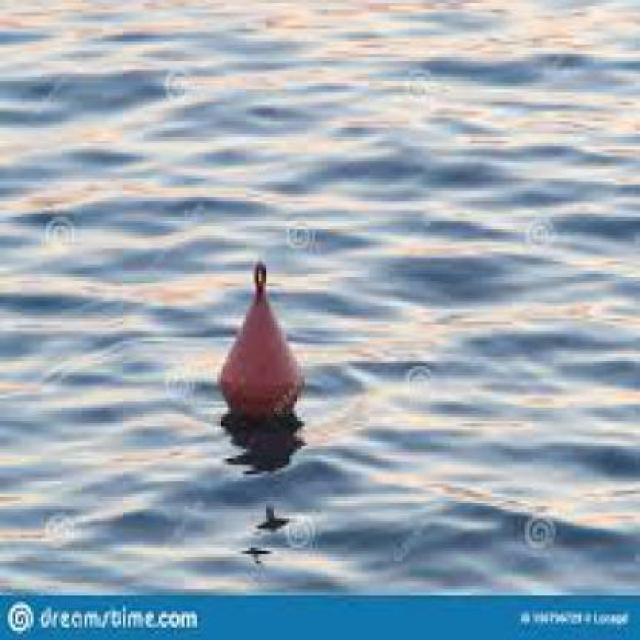a: (213, 249, 318, 428)
